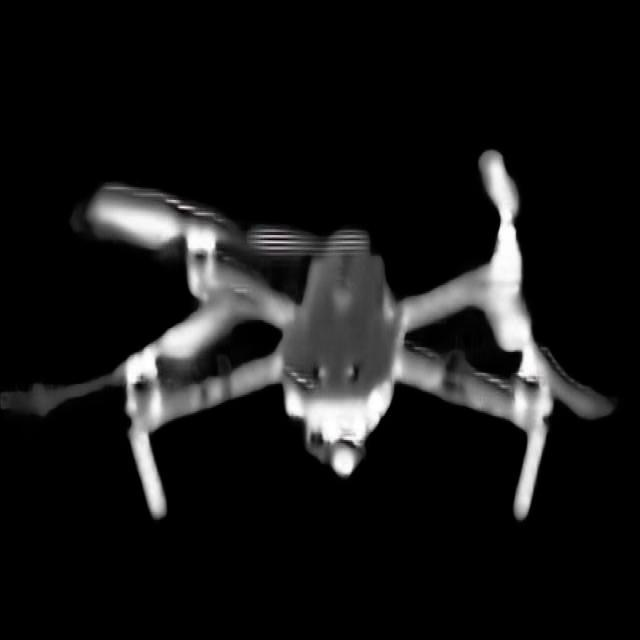drone: (14, 142, 624, 524)
